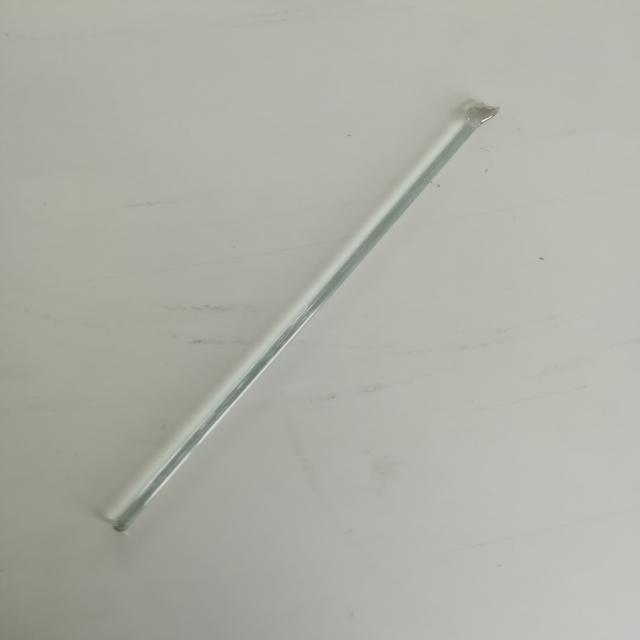Glass_Rod: (46, 66, 536, 550)
